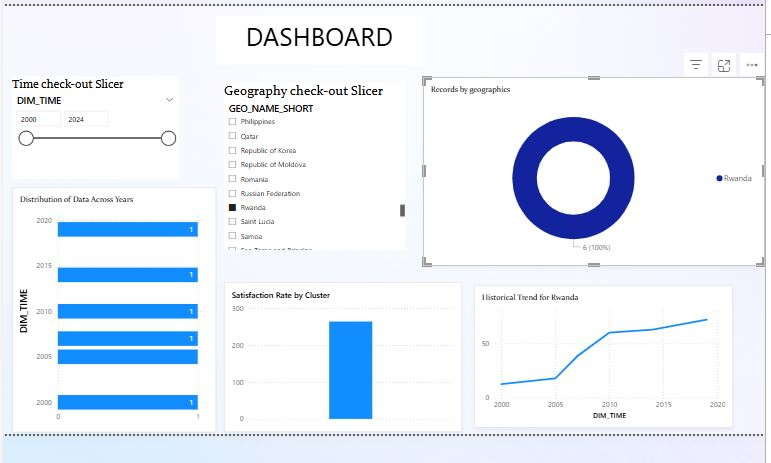

The dashboard page shown, as its layout file describes it:
{"tool":"powerbi","page":{"name":"Page 1","canvas":[1280,720],"ordinal":0},"visuals":[{"type":"barChart","title":"Distribution of Data Across Years","fields":{"Category":["cleaned_familyplanning.DIM_TIME"],"Y":["CountNonNull(cleaned_familyplanning.IND_ID)"]},"box":[15.1,304,342.7,411.5],"z":0},{"type":"textbox","box":[357.8,16.8,347.7,82.3],"z":1000},{"type":"lineChart","title":"Historical Trend for Rwanda","fields":{"Y":["Sum(cleaned_familyplanning.RATE_PER_100_N)"],"Category":["cleaned_familyplanning.DIM_TIME"]},"box":[791.2,468.7,435.1,240.2],"z":2000},{"type":"donutChart","title":"Records by geographics","fields":{"Y":["CountNonNull(cleaned_familyplanning.IND_ID)"],"Category":["cleaned_familyplanning.GEO_NAME_SHORT"]},"box":[705.5,119.3,574.5,317.5],"z":3000},{"type":"clusteredColumnChart","title":"Satisfaction Rate by Cluster","fields":{"Y":["Sum(cleaned_familyplanning.RATE_PER_100_N)"]},"box":[371.2,463.6,399.8,252],"z":4000},{"type":"slicer","title":"Geography check-out Slicer","fields":{"Values":["cleaned_familyplanning.GEO_NAME_SHORT"]},"box":[357.8,119.3,304,282.2],"z":5000},{"type":"slicer","title":"Time check-out Slicer","fields":{"Values":["cleaned_familyplanning.DIM_TIME"]},"box":[15.1,119.3,278.8,169.7],"z":6000}]}

Visuals, with their boxes on the page's 1280x720 design canvas (x1, y1, x2, y2). These are canvas units, not pixel positions in the 771x463 screenshot, which may show the page scaled, cropped or inside an application window:
"Distribution of Data Across Years" barChart: select_region(15, 304, 358, 716)
textbox: select_region(358, 17, 706, 99)
"Historical Trend for Rwanda" lineChart: select_region(791, 469, 1226, 709)
"Records by geographics" donutChart: select_region(706, 119, 1280, 437)
"Satisfaction Rate by Cluster" clusteredColumnChart: select_region(371, 464, 771, 716)
"Geography check-out Slicer" slicer: select_region(358, 119, 662, 402)
"Time check-out Slicer" slicer: select_region(15, 119, 294, 289)
